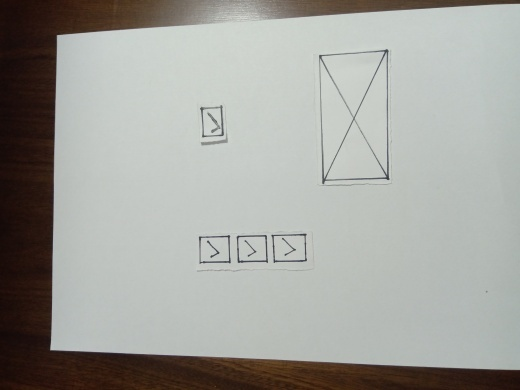checkbox: (273, 235, 306, 263), (198, 110, 223, 137), (238, 235, 263, 262), (201, 235, 226, 262)
img: (319, 56, 389, 188)
